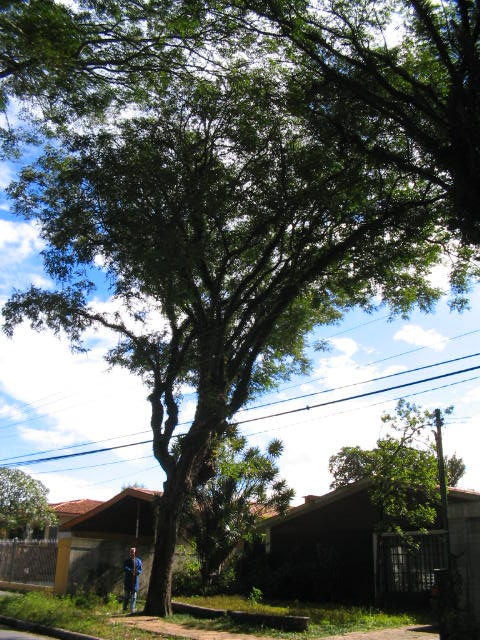crown: (8, 76, 469, 391)
stem: (148, 472, 197, 618)
stick: (124, 496, 145, 612)
tree: (4, 72, 474, 617)
